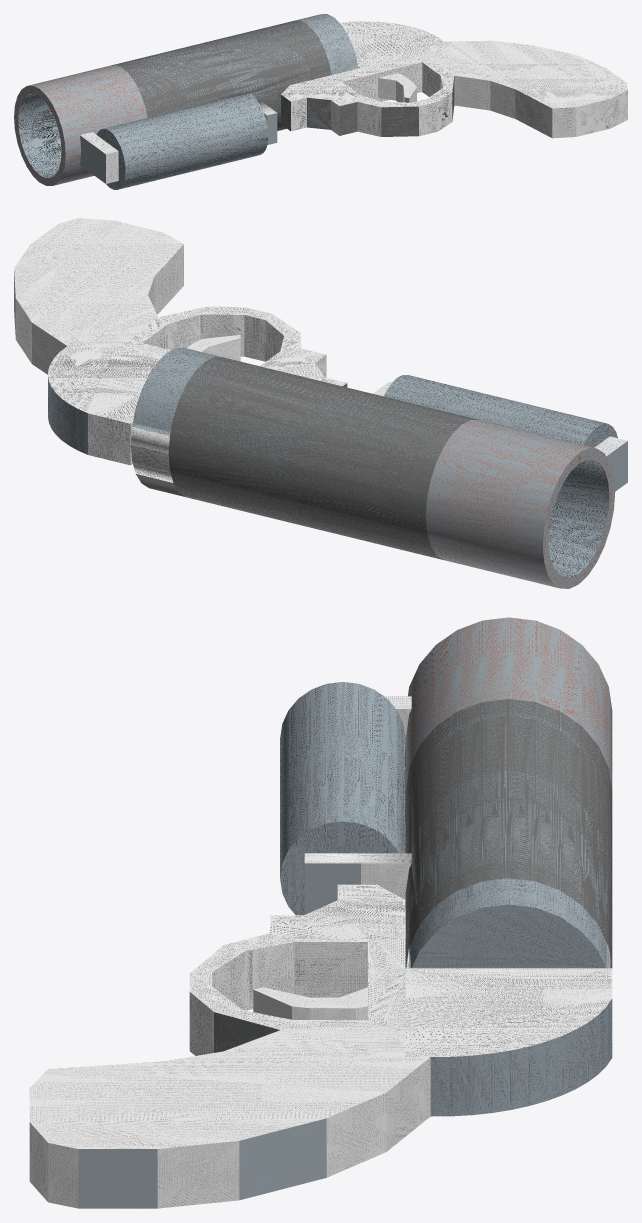
Rendered from flare gun.fbx.
The picture shows the model from 3 angles, top to bottom: view 1: azimuth 30°, elevation 25°; view 2: azimuth 150°, elevation 25°; view 3: azimuth 270°, elevation 25°; orthographic projection. The views are drawn at different scales.
Parts seen in each view (by area): view 1: Group1; view 2: Group1; view 3: Group1.
Boxes of the visible parts, x1,y1,x2,y2 form: Group1: (14, 14, 627, 189); Group1: (14, 218, 627, 588); Group1: (29, 617, 612, 1208).
Bounding box in the file's own units: 1.45 × 0.2701 × 0.7612.
